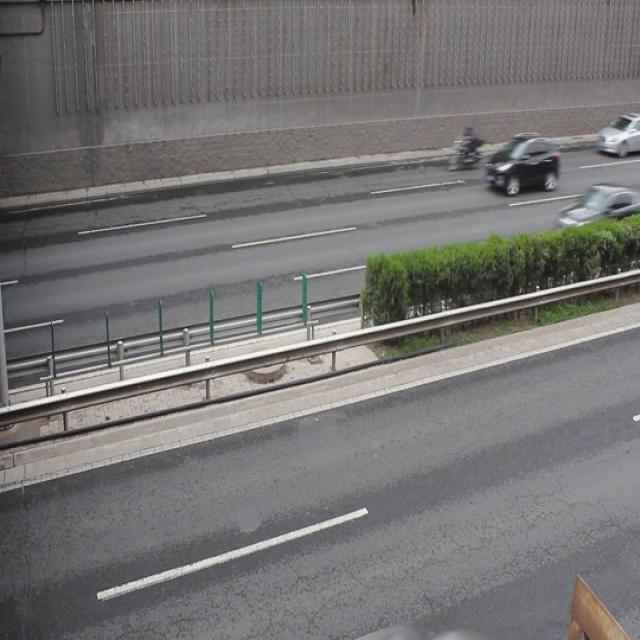car: (554, 182, 640, 250), (483, 131, 561, 197), (593, 114, 640, 156)
